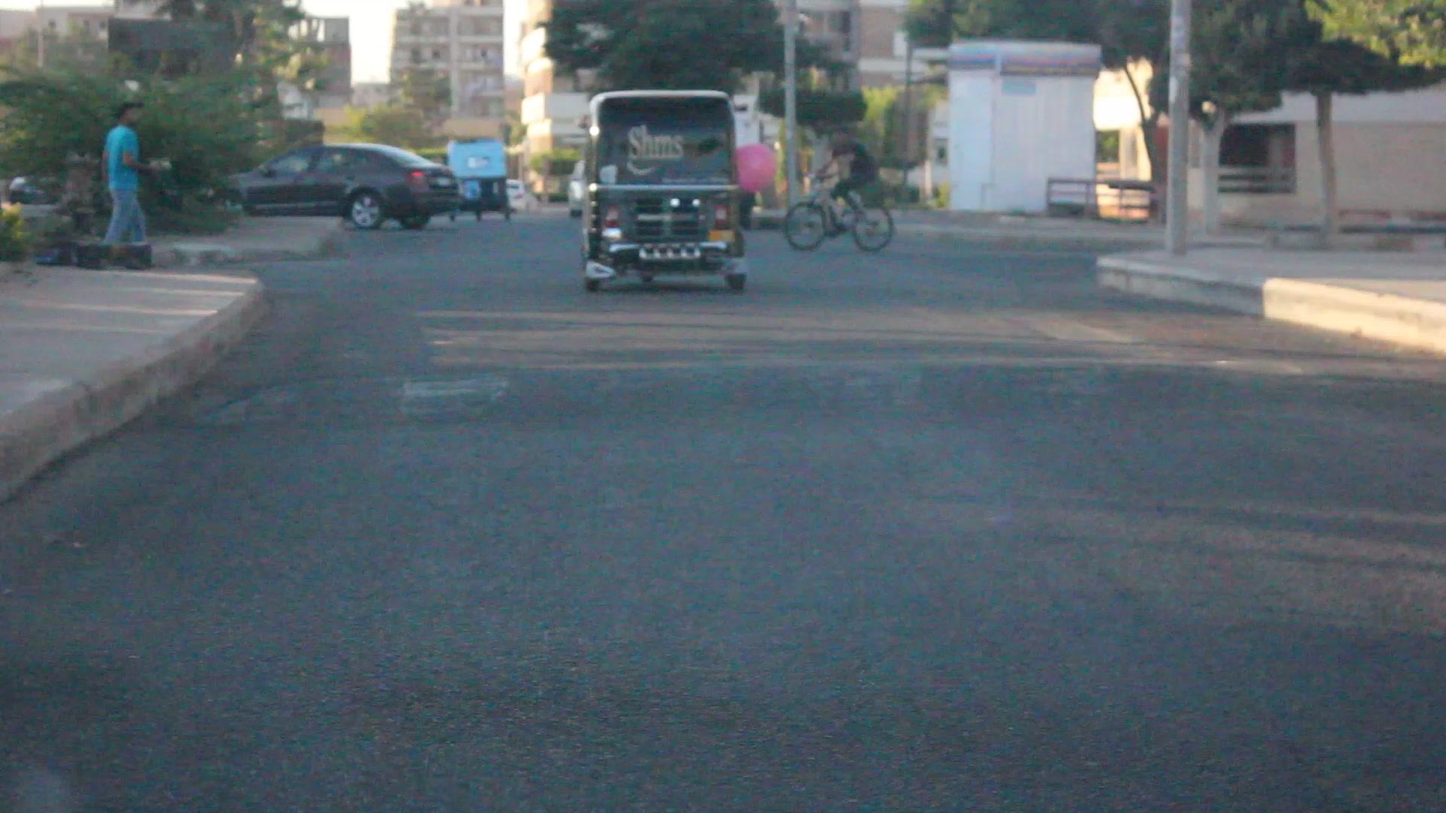Bump: (162, 348, 1446, 446)
